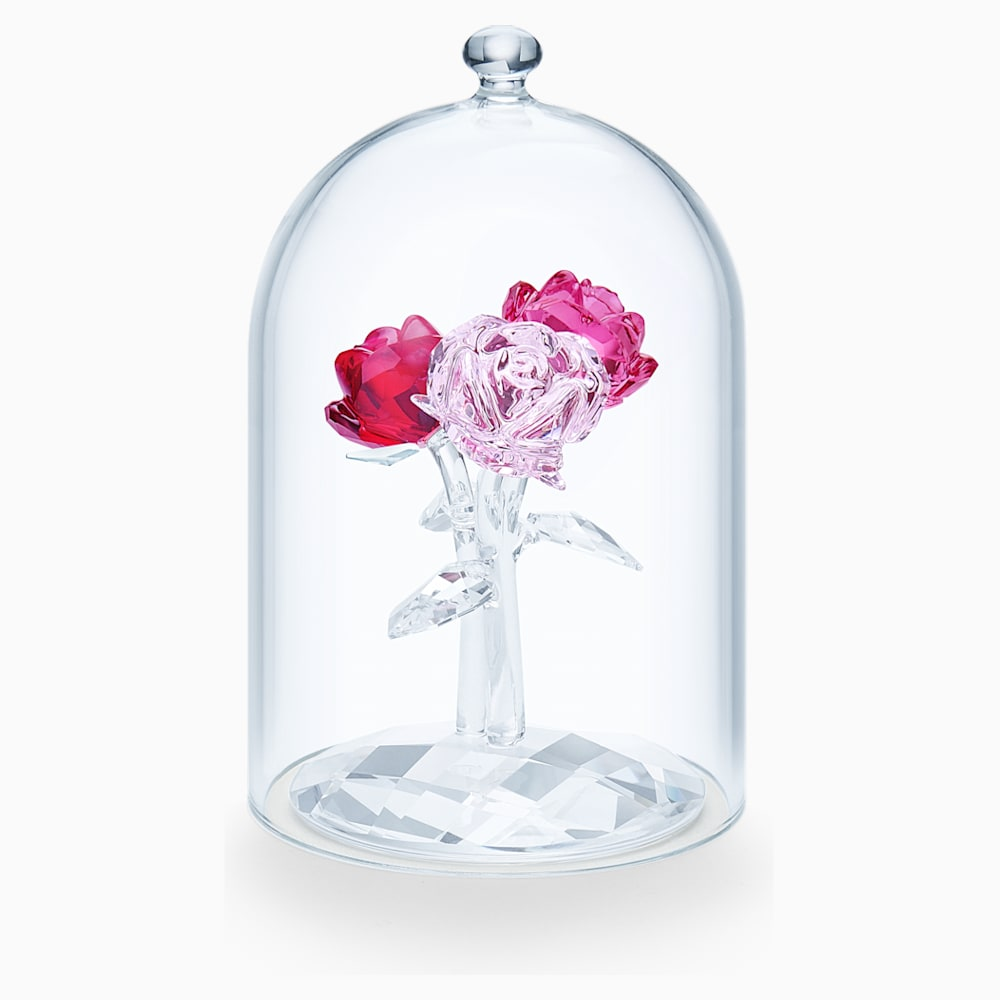rose: (332, 311, 462, 462)
